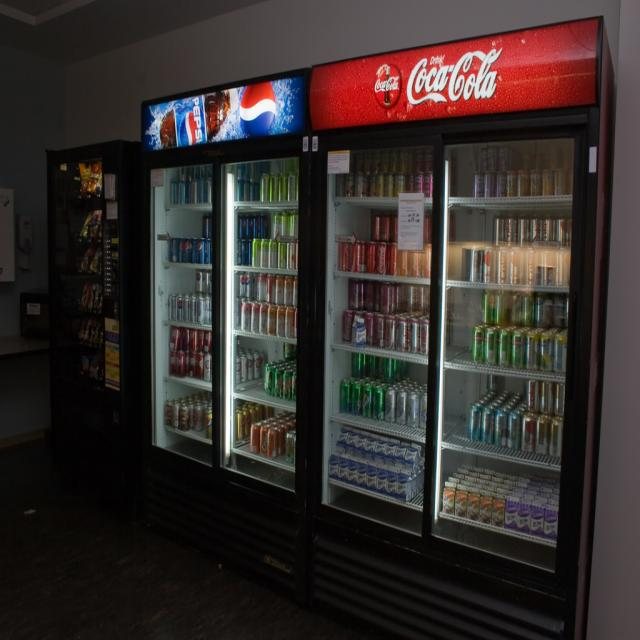refrigerator: (444, 144, 581, 576), (327, 142, 432, 525), (225, 158, 301, 526), (150, 150, 212, 525), (58, 167, 119, 470)
